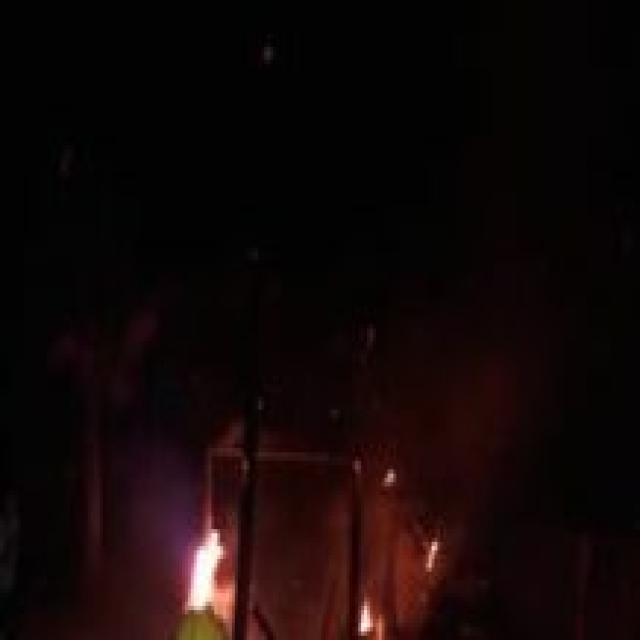Fire: (182, 528, 235, 614)
